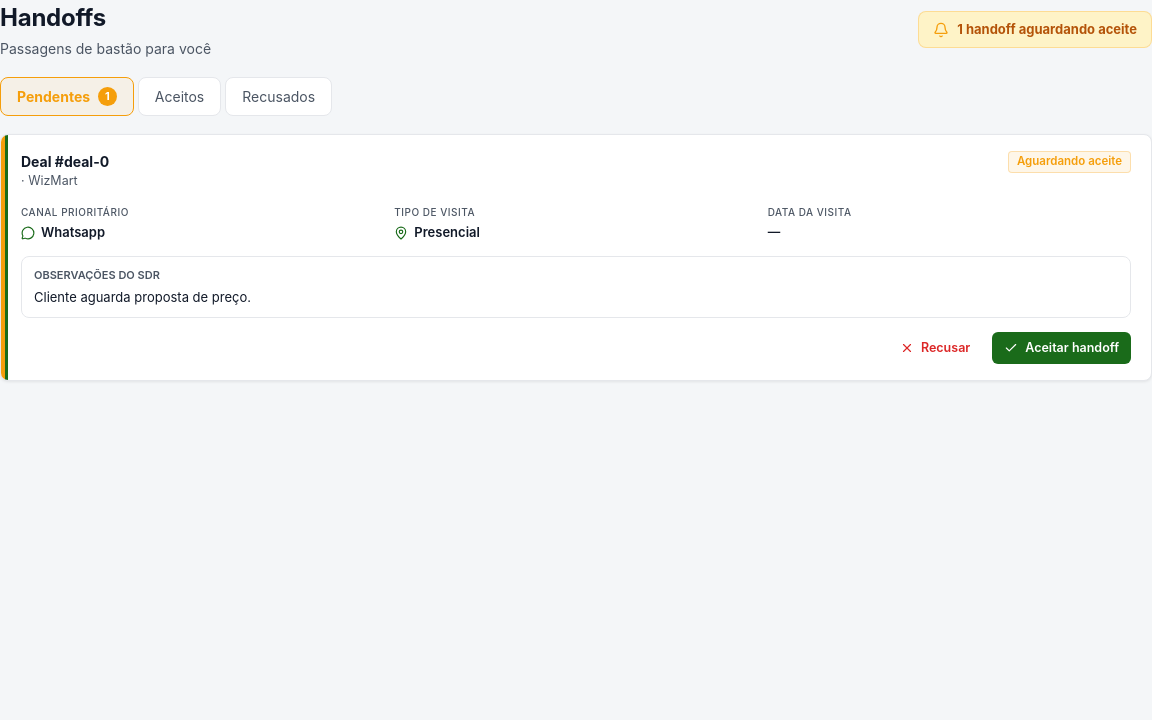
Test: HandoffsPage — modal de recusa › clicar Cancelar no modal fecha o modal
Step 1. Click the button "Recusar" → (935,348), box [888,332,982,364]
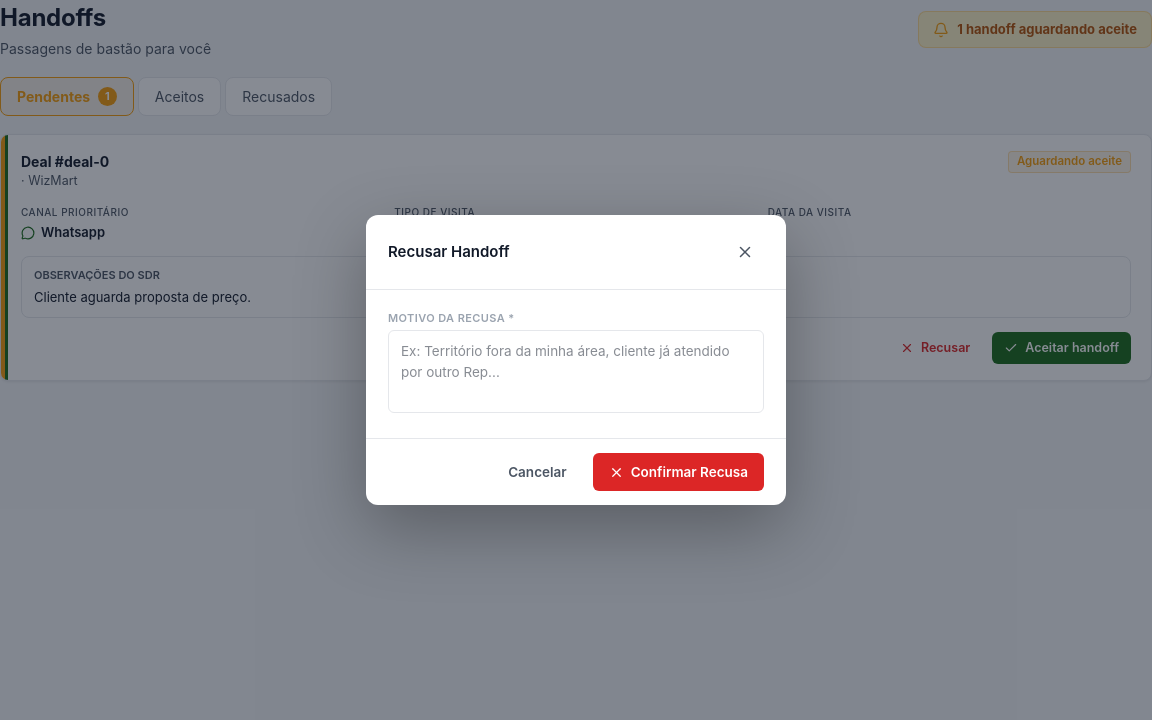
Step 2. Click the button "Cancelar" → (537,472), box [492,453,583,491]
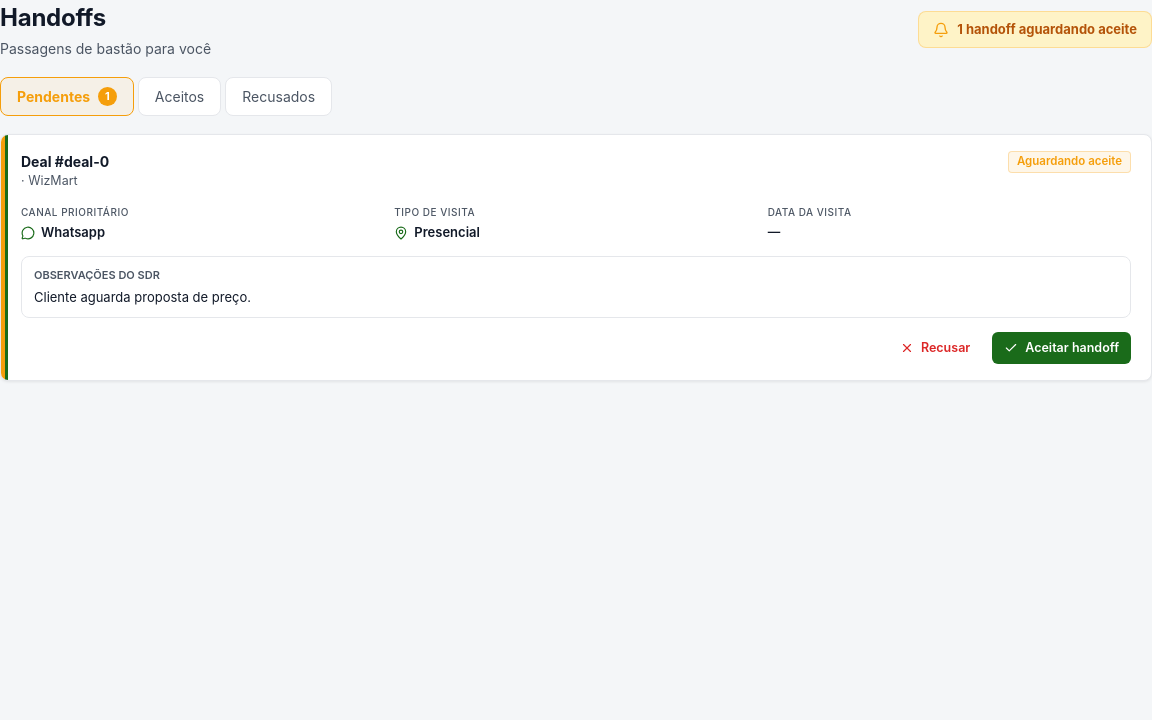
Result: the heading "Recusar Handoff" is gone
